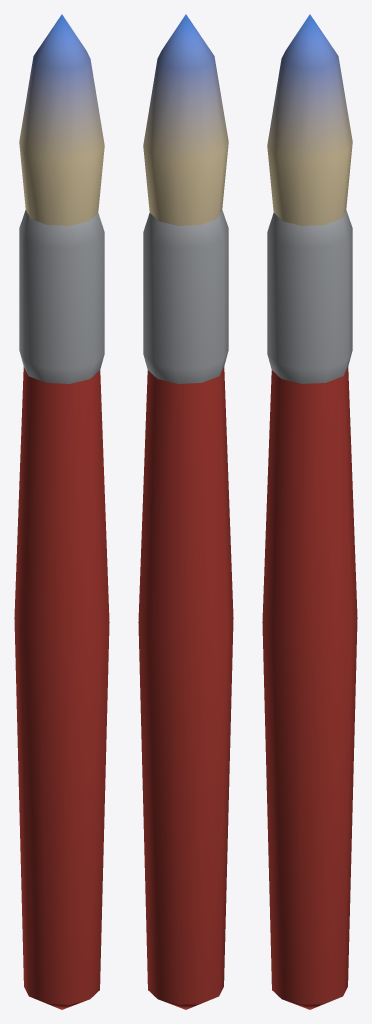
The model's file is style_brush.glb.
3 views of the same model, side by side, from view 1: azimuth 30°, elevation 25°; view 2: azimuth 150°, elevation 25°; view 3: azimuth 330°, elevation 25° (orthographic).
Visible parts, largest first — view 1: style_brush_gloss, style_brush_main; view 2: style_brush_gloss, style_brush_main; view 3: style_brush_gloss, style_brush_main.
Part boxes in pixels (x1,y1,x2,y2): style_brush_gloss: (14,210,109,1009); style_brush_main: (19,14,104,225); style_brush_gloss: (138,210,233,1009); style_brush_main: (143,14,228,225); style_brush_gloss: (262,210,357,1009); style_brush_main: (267,14,352,225).
Bounding box in the file's own units: 0.02 × 0.23 × 0.019.
